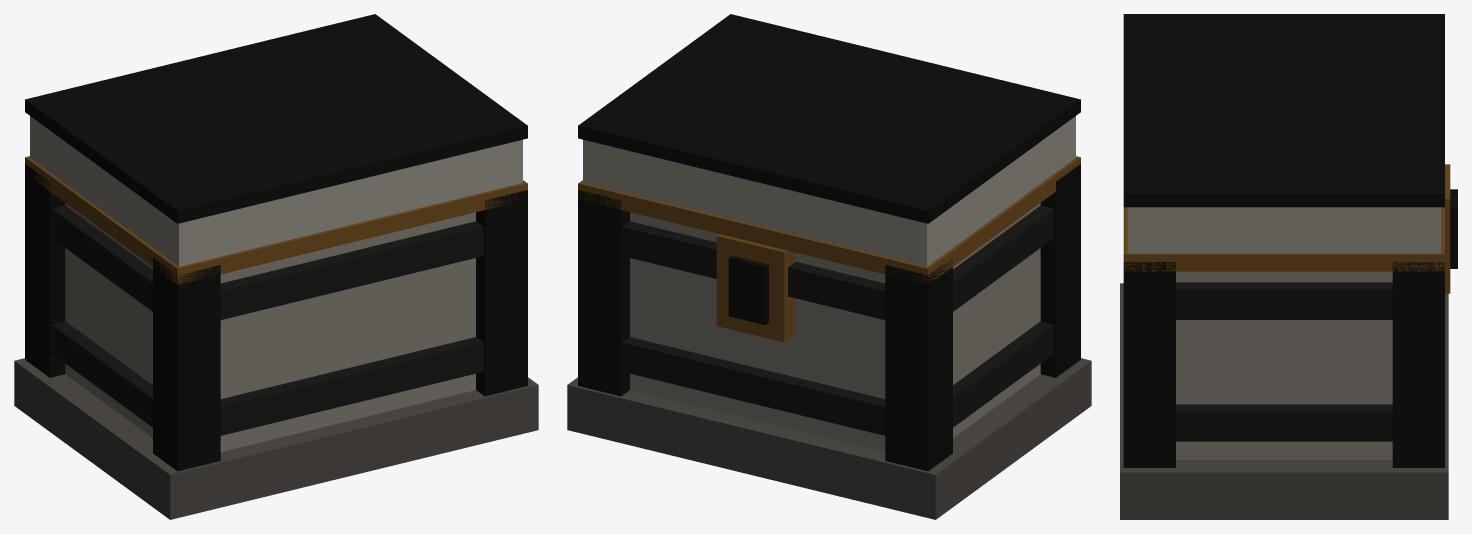
Rendered from ruin_cache_chest.glb.
The picture shows the model from 3 angles, left to right: view 1: azimuth 30°, elevation 25°; view 2: azimuth 150°, elevation 25°; view 3: azimuth 270°, elevation 25°; orthographic projection. The views are drawn at different scales.
Visible parts, largest first — view 1: ruin_cache_chest; view 2: ruin_cache_chest; view 3: ruin_cache_chest.
Boxes of the visible parts, left/top/right/bottom form: ruin_cache_chest: left=14, top=14, right=538, bottom=519; ruin_cache_chest: left=567, top=14, right=1091, bottom=519; ruin_cache_chest: left=1120, top=14, right=1457, bottom=519.
Bounding box in the file's own units: 1.2 × 0.95 × 0.905.
